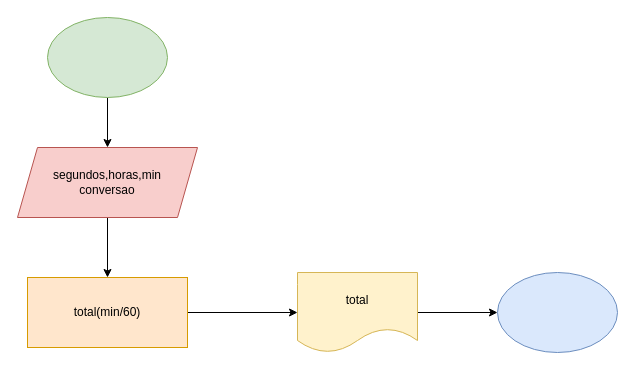
This 635x370 diagram has some shape labels left out. Each missing label, with the box of its shape:
fim: (496, 272, 618, 352)
inicio: (46, 16, 168, 98)
